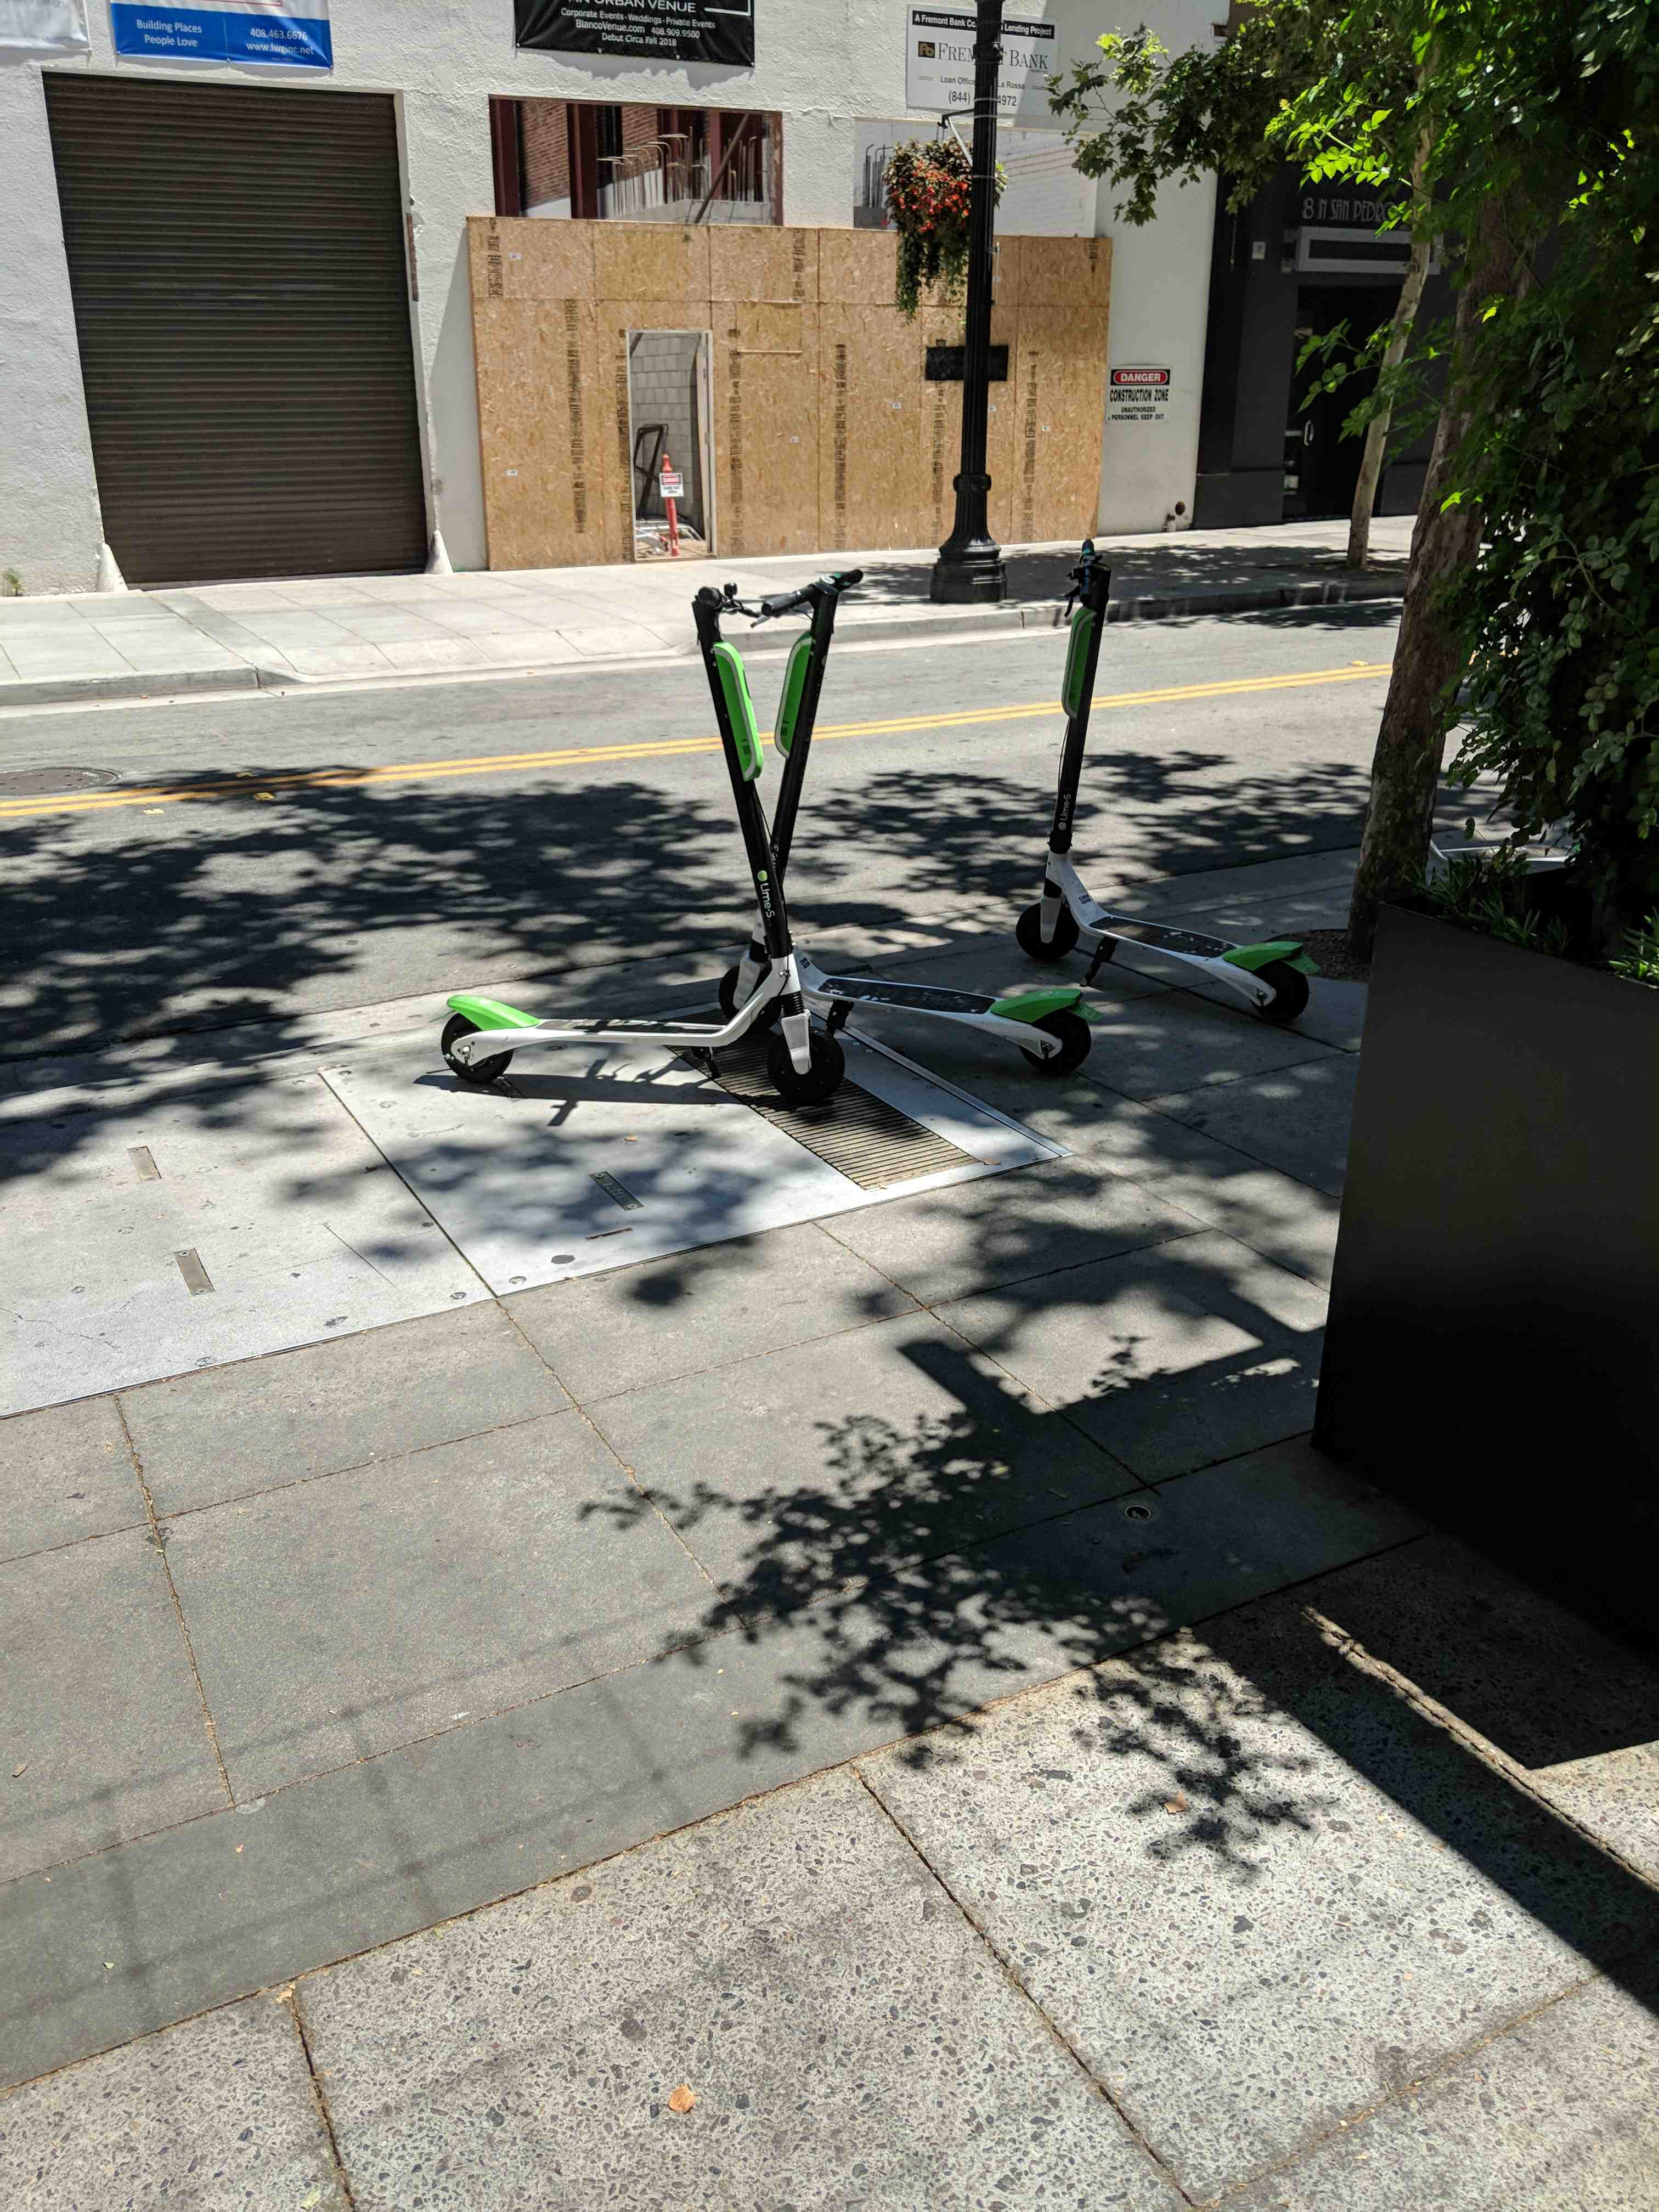scooter: (469, 486, 1002, 1137), (650, 524, 1199, 1118)
